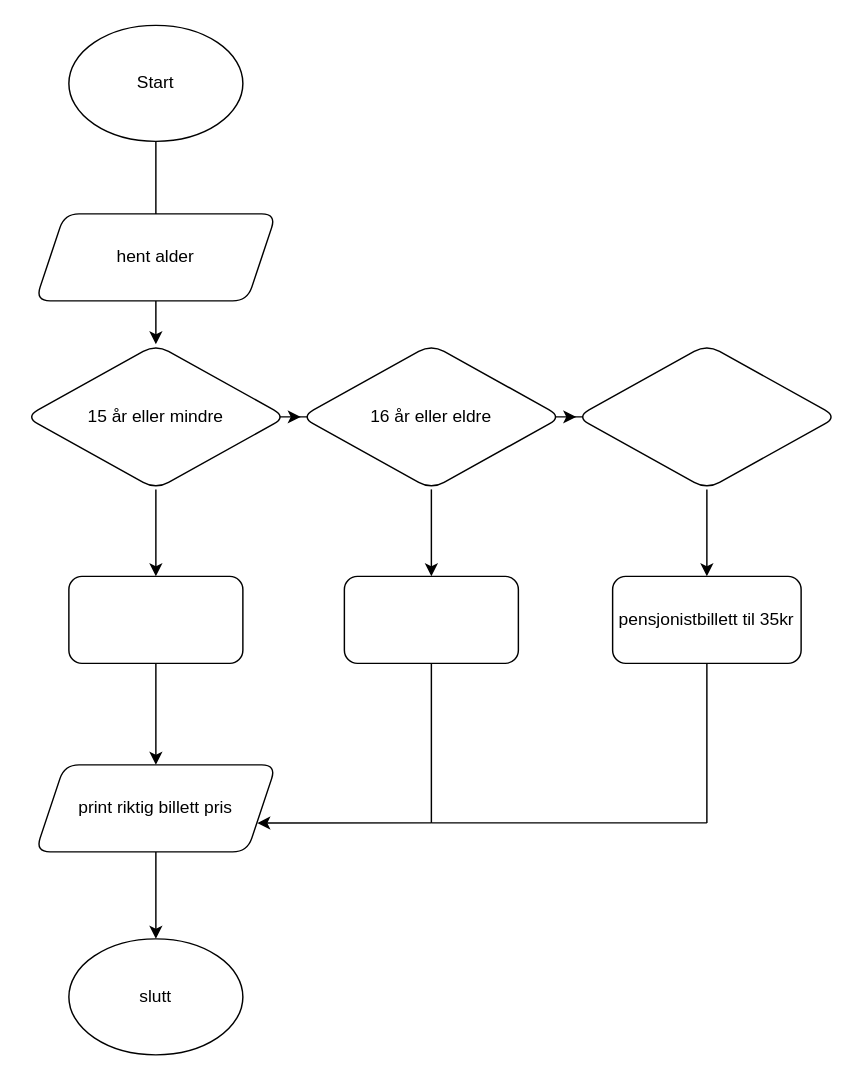
This 863x1080 diagram has some shape labels left out. Each missing label, with the centre of its shape:
67 år eller eldre: the point at 706,416
barnebillett til 30kr: the point at 155,619
voksenbillett til 50kr: the point at 430,619
